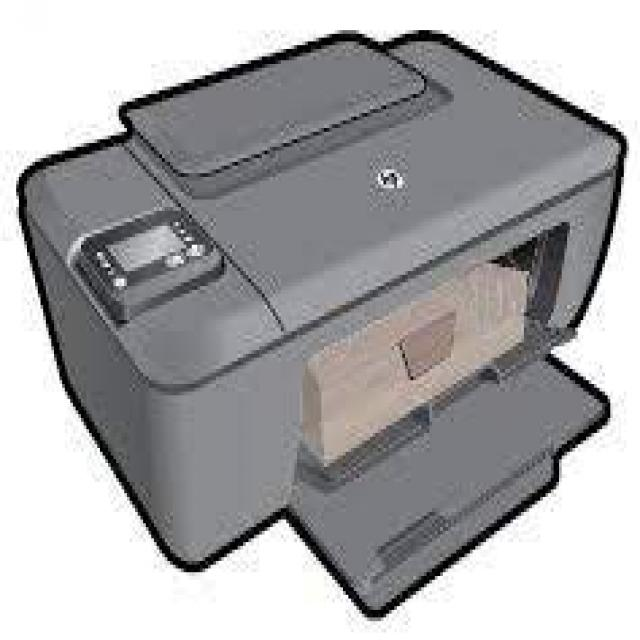printer: (0, 21, 639, 625)
